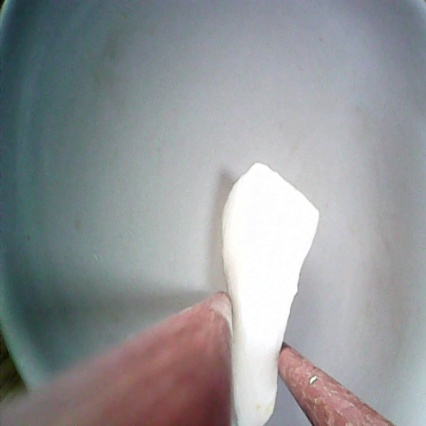white_chinese-yam: (214, 157, 326, 426)
